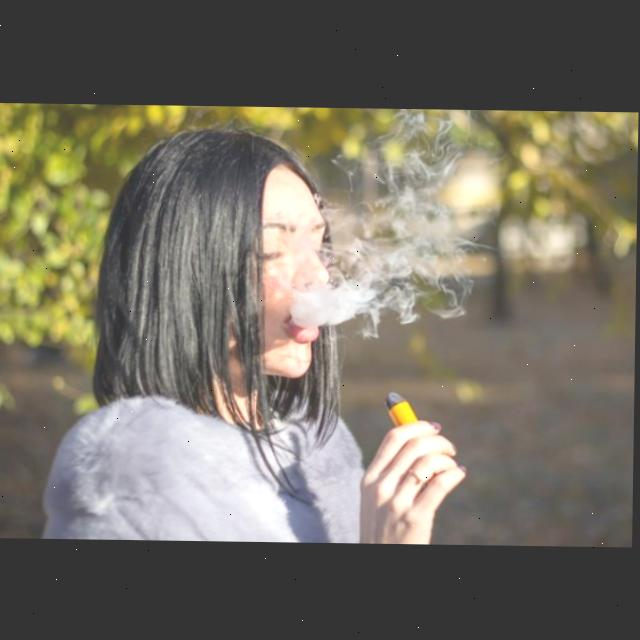vape: (387, 389, 420, 424)
